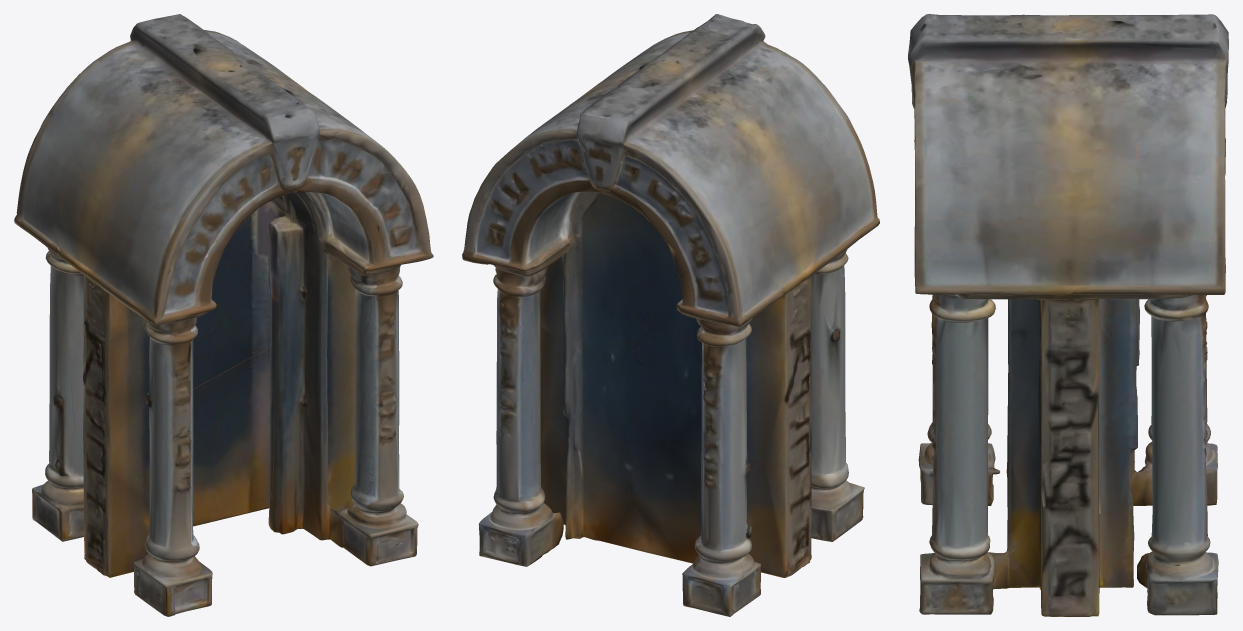
File: apex-fantasia-portal.glb
3 views of the same model, side by side, from view 1: azimuth 30°, elevation 25°; view 2: azimuth 150°, elevation 25°; view 3: azimuth 270°, elevation 25° (orthographic). The views are drawn at different scales.
Bounding box in the file's own units: 1.24 × 2 × 1.11.
Materials: 1 (1 with a texture image).
